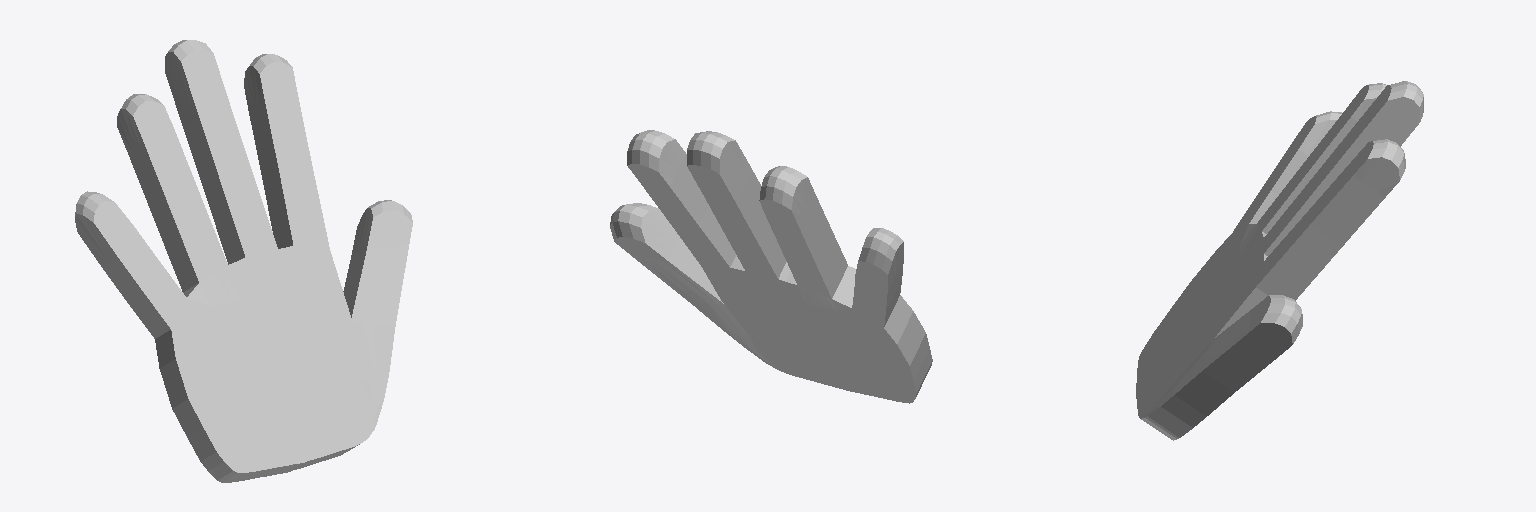
The model's file is hand_L.obj.
The picture shows the model from 3 angles: view 1: azimuth 30°, elevation 25°; view 2: azimuth 150°, elevation 25°; view 3: azimuth 270°, elevation 25°; orthographic projection.
Parts seen in each view (by area): view 1: 立方体.006; view 2: 立方体.006; view 3: 立方体.006.
Part boxes in pixels (left/top/right/bottom): 立方体.006: left=75, top=40, right=412, bottom=482; 立方体.006: left=610, top=130, right=932, bottom=403; 立方体.006: left=1136, top=81, right=1423, bottom=440.
Bounding box in the file's own units: 0.7369 × 0.7765 × 0.5971.